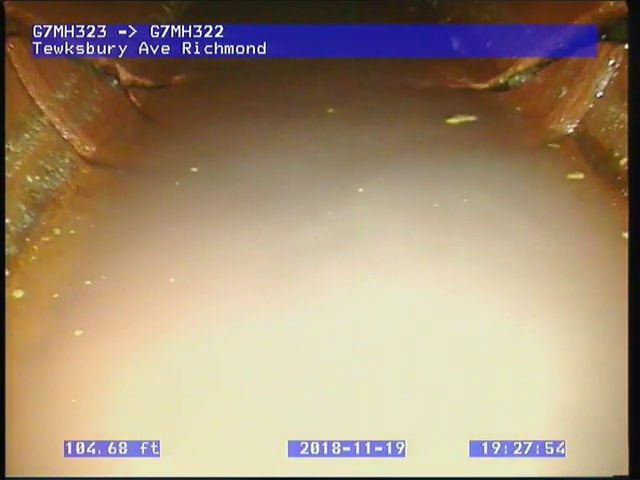crack: (6, 16, 190, 128), (468, 19, 626, 98)
